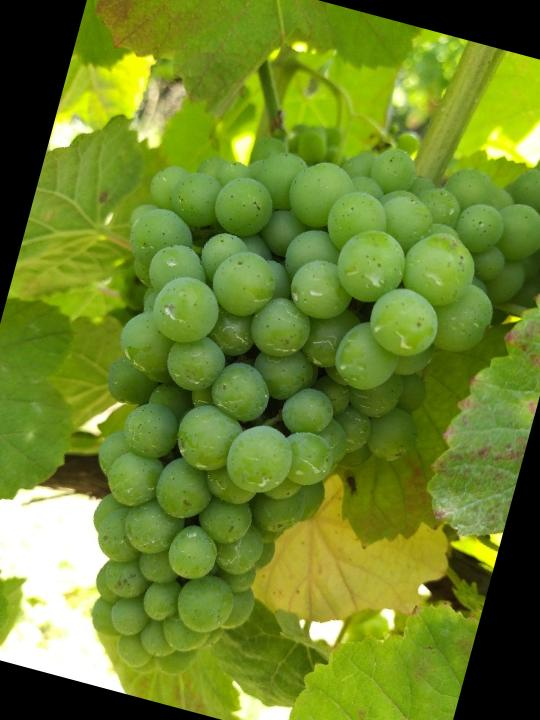grape: (9, 112, 529, 720)
